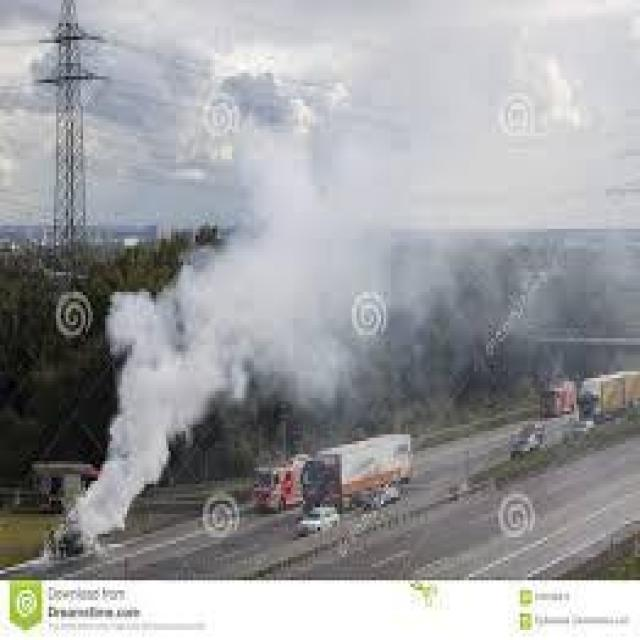smoke: (61, 259, 228, 534), (225, 140, 358, 387)
